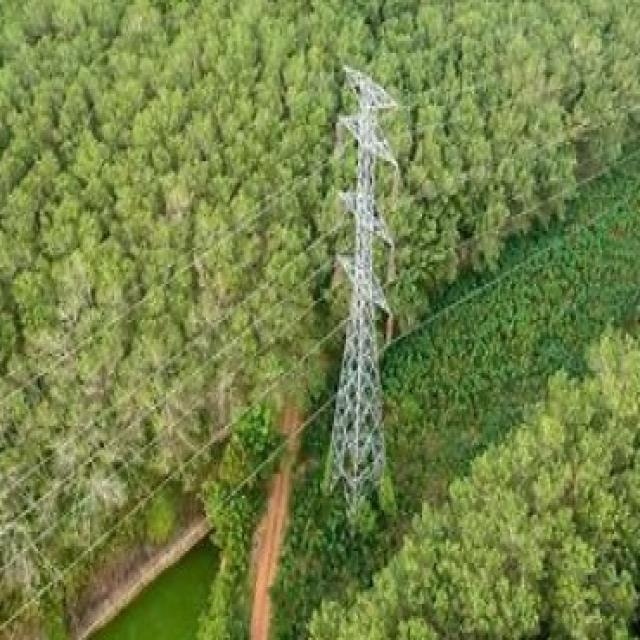utility poles: (304, 40, 430, 522)
